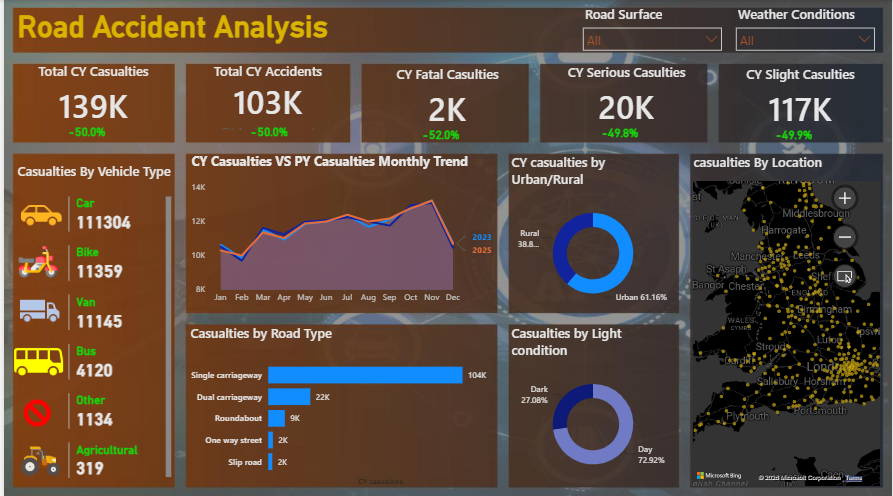

Layout of this report page (visuals, bound fields, positions):
{"tool":"powerbi","page":{"name":"Page 1","canvas":[1280,720],"ordinal":0},"visuals":[{"type":"cardVisual","title":"Total CY Accidents","fields":{"Data":["data.CY Accidents count"]},"box":[264,89,233.3,115.2],"z":0,"group":"g2"},{"type":"group","id":"g1","title":"Group 1","box":[11.5,89.3,234.7,135.9],"z":0},{"type":"cardVisual","title":"Total CY Casualties","fields":{"Data":["data.CY casualties"]},"box":[11.5,89.3,234.7,99.4],"z":0,"group":"g1"},{"type":"cardVisual","title":"CY Serious Casulties","fields":{"Data":["data.CY casualties"]},"box":[778.8,91.4,234.7,99.4],"z":0,"group":"g4"},{"type":"cardVisual","title":"CY Slight Casulties","fields":{"Data":["data.CY casualties"]},"box":[1029.4,93.1,234.7,99.4],"z":0,"group":"g5"},{"type":"cardVisual","title":"CY Fatal Casulties","fields":{"Data":["data.CY casualties"]},"box":[521.3,93.6,234.7,99.4],"z":0,"group":"g3"},{"type":"group","id":"g2","title":"Group 1","box":[264,89,233.3,136.7],"z":1000},{"type":"cardVisual","fields":{"Data":["data.YOY Accidents"]},"box":[323.3,149.4,119.5,76.3],"z":1000,"group":"g2"},{"type":"cardVisual","fields":{"Data":["data.YOY Casualties"]},"box":[61.9,151.2,115,74],"z":1000,"group":"g1"},{"type":"cardVisual","fields":{"Data":["data.YOY Casualties"]},"box":[829.2,153.3,115,74],"z":1000,"group":"g4"},{"type":"cardVisual","fields":{"Data":["data.YOY Casualties"]},"box":[1079.8,155,115,74],"z":1000,"group":"g5"},{"type":"cardVisual","fields":{"Data":["data.YOY Casualties"]},"box":[571.7,155.5,115,74],"z":1000,"group":"g3"},{"type":"group","id":"g3","title":"Group 1","box":[521.3,93.6,234.7,135.4],"z":2000},{"type":"group","id":"g4","title":"Group 1","box":[778.8,91.4,233.7,135.4],"z":3000},{"type":"group","id":"g5","title":"Group 1","box":[1029.4,93.1,233.7,135.4],"z":4000},{"type":"textbox","box":[14.4,8.6,482.4,67.7],"z":5000},{"type":"multiRowCard","fields":{"Values":["data.CY casualties","data.Vehicle_Type (groups)"]},"box":[87.3,277.3,158.4,426.2],"z":6000},{"type":"image","box":[15,416.7,74.2,61.7],"z":7000},{"type":"image","box":[14.7,570.7,67.3,48.7],"z":8000},{"type":"image","box":[15,634.2,75,60],"z":9000},{"type":"image","box":[18.7,277.3,70.7,64],"z":10000},{"type":"image","box":[5.3,348,86.7,57.3],"z":11000},{"type":"image","box":[11.7,478.3,76.7,85],"z":12000},{"type":"textbox","box":[15,228.3,288.3,66.7],"z":13000},{"type":"areaChart","title":"CY Casualties VS  PY Casualties  Monthly Trend","fields":{"Category":["calender.Month"],"Y":["Sum(data.Number_of_Casualties)"],"Series":["calender.Date.Variation.Date Hierarchy.Year"]},"box":[265,218.3,446.4,227.5],"z":14000},{"type":"donutChart","title":"CY casualties by Urban/Rural","fields":{"Category":["data.Urban_or_Rural_Area"],"Y":["data.CY casualties"]},"box":[725.8,220.3,244.8,227.5],"z":15000},{"type":"donutChart","title":"Casualties by Light condition","fields":{"Category":["data.Light_Conditions (groups)"],"Y":["data.CY casualties"],"Series":["data.Light_Conditions (groups)"]},"box":[725.8,466.6,244.8,227.5],"z":16000},{"type":"barChart","title":"Casualties by Road Type","fields":{"Category":["data.Road_Type"],"Y":["data.CY casualties"]},"box":[263.5,466.6,446.4,237.6],"z":17000},{"type":"map","title":"casualties By Location","fields":{"X":["data.Longitude"],"Y":["data.Latitude"],"Category":["data.Local_Authority_(District)"]},"box":[987.5,220,277.5,483.8],"z":18000},{"type":"slicer","fields":{"Values":["data.Weather_Conditions (groups)"]},"box":[1044.5,2.7,220,80],"z":19000},{"type":"slicer","fields":{"Values":["data.Road_Surface_Conditions (groups)"]},"box":[823.3,3.3,220,76.7],"z":20000}]}

Visuals, with their boxes in screenshot pixels (x1, y1, x2, y2), scaled from the page's 1280x720 canvas onto the 893x496 screenshot:
"Total CY Accidents" cardVisual: x1=184, y1=61, x2=347, y2=141
"Group 1" group: x1=8, y1=62, x2=172, y2=155
"Total CY Casualties" cardVisual: x1=8, y1=62, x2=172, y2=130
"CY Serious Casulties" cardVisual: x1=543, y1=63, x2=707, y2=131
"CY Slight Casulties" cardVisual: x1=718, y1=64, x2=882, y2=133
"CY Fatal Casulties" cardVisual: x1=364, y1=64, x2=527, y2=133
"Group 1" group: x1=184, y1=61, x2=347, y2=155
cardVisual - data.YOY Accidents: x1=226, y1=103, x2=309, y2=155
cardVisual - data.YOY Casualties: x1=43, y1=104, x2=123, y2=155
cardVisual - data.YOY Casualties: x1=578, y1=106, x2=659, y2=157
cardVisual - data.YOY Casualties: x1=753, y1=107, x2=834, y2=158
cardVisual - data.YOY Casualties: x1=399, y1=107, x2=479, y2=158
"Group 1" group: x1=364, y1=64, x2=527, y2=158
"Group 1" group: x1=543, y1=63, x2=706, y2=156
"Group 1" group: x1=718, y1=64, x2=881, y2=157
textbox: x1=10, y1=6, x2=347, y2=53
multiRowCard - data.CY casualties x data.Vehicle_Type (groups): x1=61, y1=191, x2=171, y2=485
image: x1=10, y1=287, x2=62, y2=330
image: x1=10, y1=393, x2=57, y2=427
image: x1=10, y1=437, x2=63, y2=478
image: x1=13, y1=191, x2=62, y2=235
image: x1=4, y1=240, x2=64, y2=279
image: x1=8, y1=329, x2=62, y2=388
textbox: x1=10, y1=157, x2=212, y2=203
"CY Casualties VS  PY Casualties  Monthly Trend" areaChart: x1=185, y1=150, x2=496, y2=307
"CY casualties by Urban/Rural" donutChart: x1=506, y1=152, x2=677, y2=308
"Casualties by Light condition" donutChart: x1=506, y1=321, x2=677, y2=478
"Casualties by Road Type" barChart: x1=184, y1=321, x2=495, y2=485
"casualties By Location" map: x1=689, y1=152, x2=883, y2=485
slicer - data.Weather_Conditions (groups): x1=729, y1=2, x2=882, y2=57
slicer - data.Road_Surface_Conditions (groups): x1=574, y1=2, x2=728, y2=55
